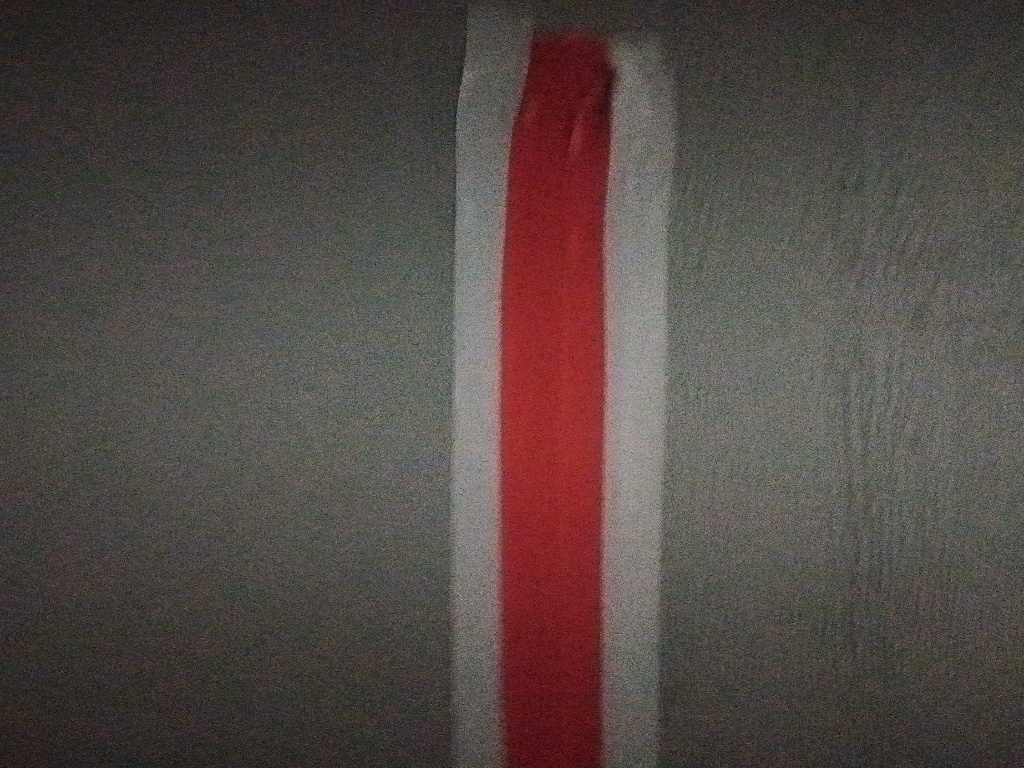reta: (444, 20, 674, 768)
